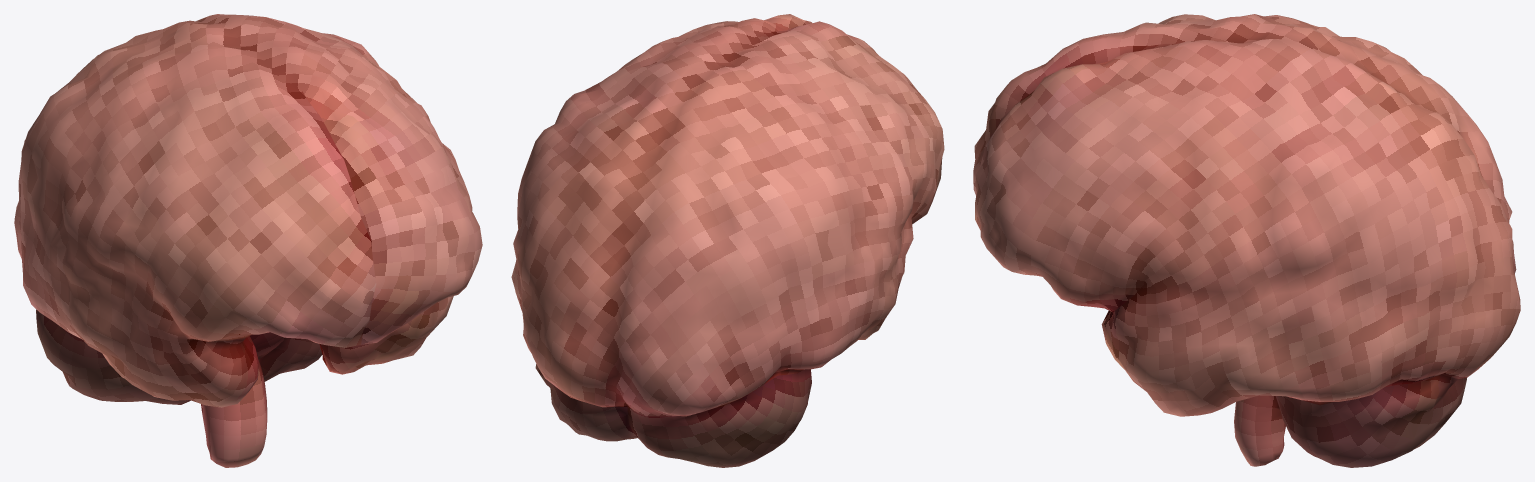
Rendered from brain.glb.
3 views of the same model, side by side, from view 1: azimuth 30°, elevation 25°; view 2: azimuth 150°, elevation 25°; view 3: azimuth 270°, elevation 25° (orthographic). The views are drawn at different scales.
Parts seen in each view (by area): view 1: brain.1; view 2: brain.1; view 3: brain.1.
Part boxes in pixels (x1,y1,x2,y2): brain.1: [14, 14, 482, 467]; brain.1: [511, 14, 944, 467]; brain.1: [973, 14, 1520, 467].
Size of the model in its own units: 0.7609 by 0.8546 by 0.991.
1 material, 1 textured.
